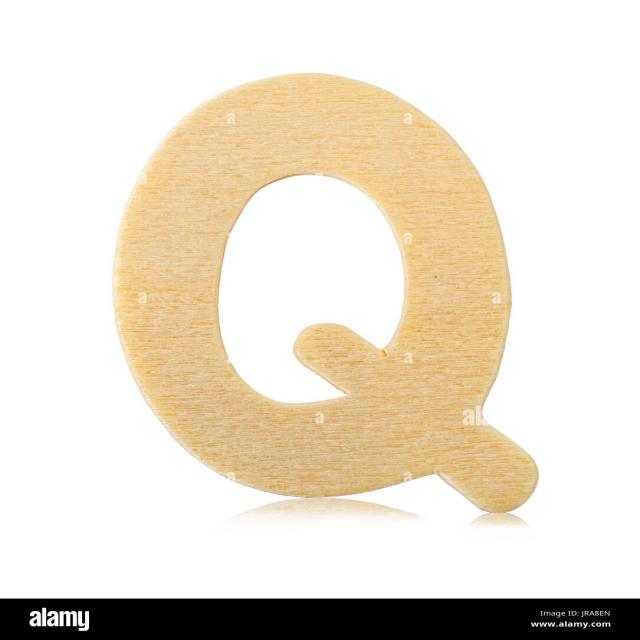Q: (74, 46, 557, 541)
